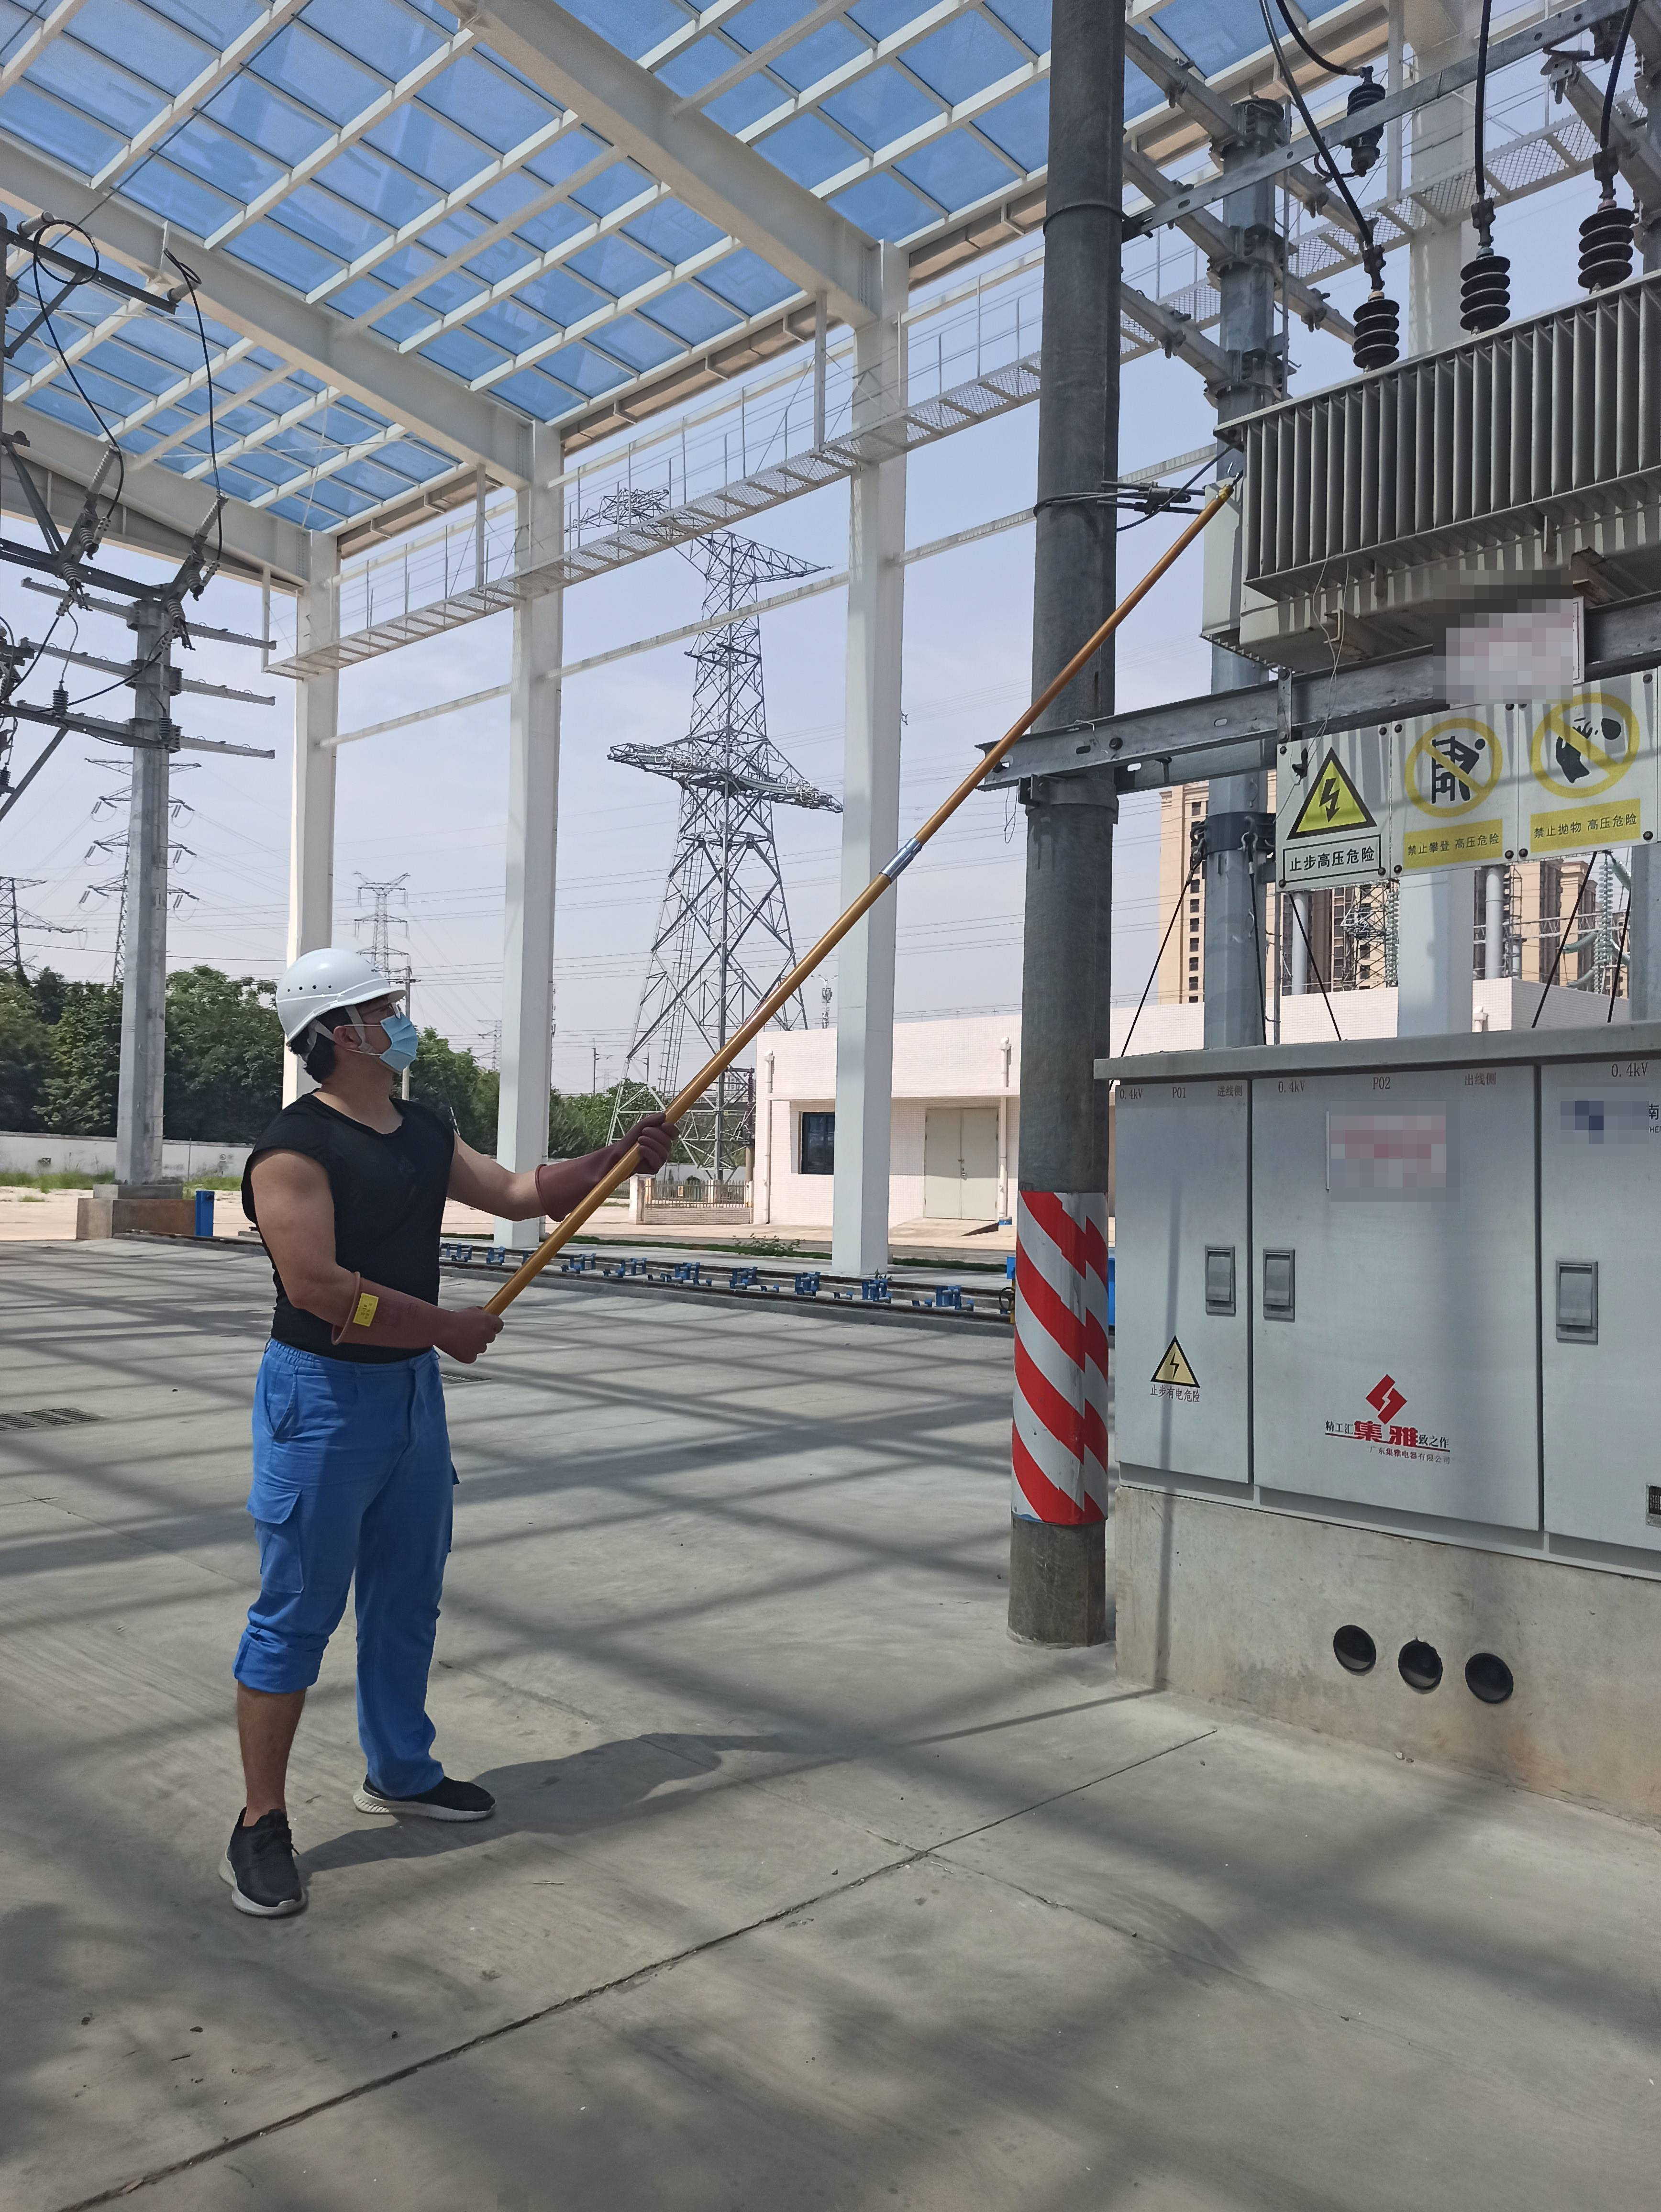downsuit: (258, 1368, 462, 1818)
upcloth: (249, 1087, 468, 1362)
wrongbottom: (218, 1652, 314, 1839)
